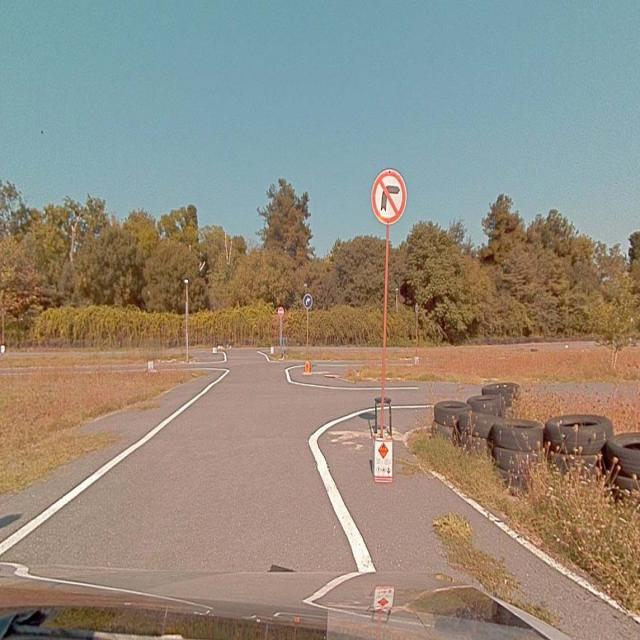girisyok: (278, 306, 284, 316)
sag: (304, 294, 312, 308)
sagadonulmez: (372, 168, 405, 226)
